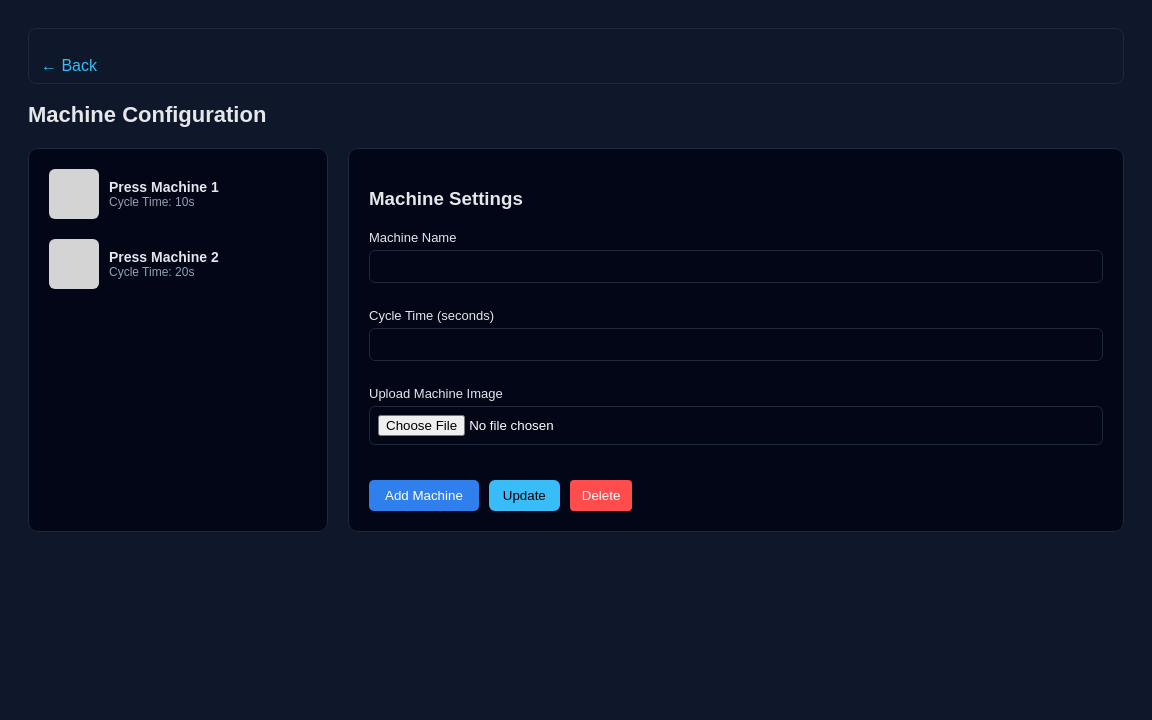
Scenario: Settings Page › selects machine correctly
Click the heading "Press Machine 1" at (164, 187), box 109,179 -> 219,195
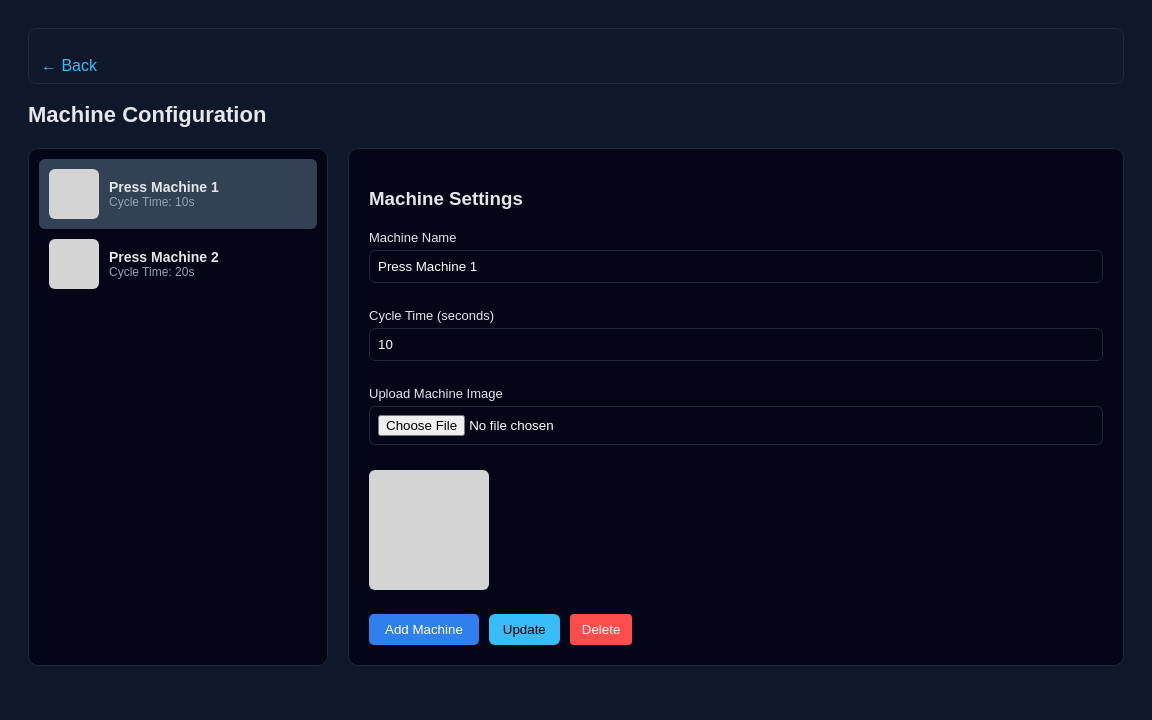
Now the field showing "Press Machine 1" is shown, box 369,250 -> 1103,283
Now the number field showing "10" is shown, box 369,328 -> 1103,361
